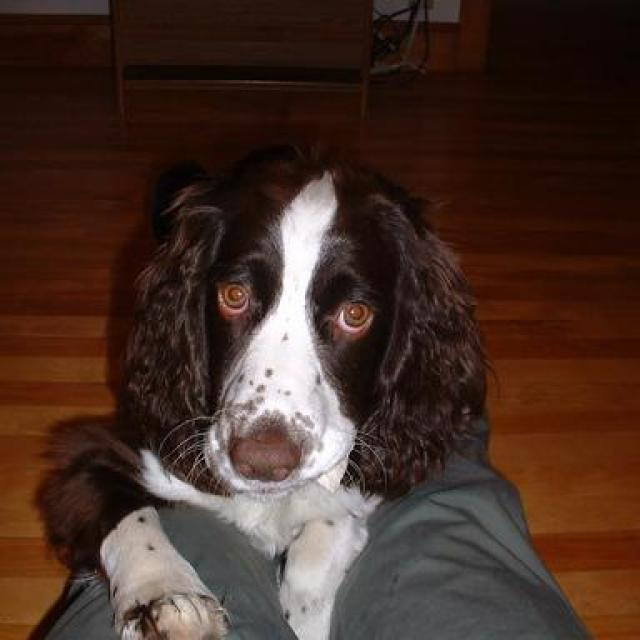sad: (77, 92, 489, 632)
